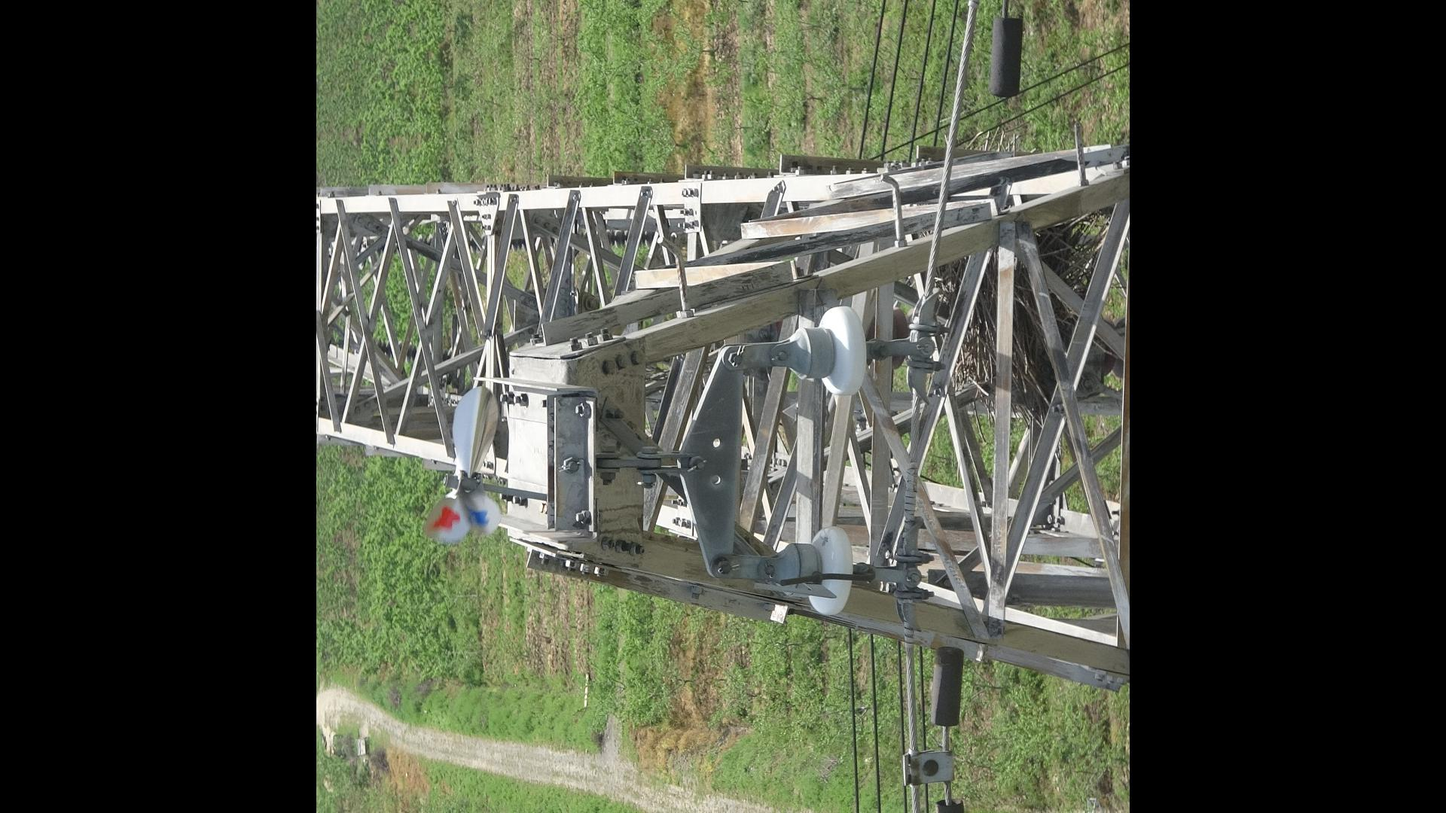nest: (935, 231, 1094, 416)
